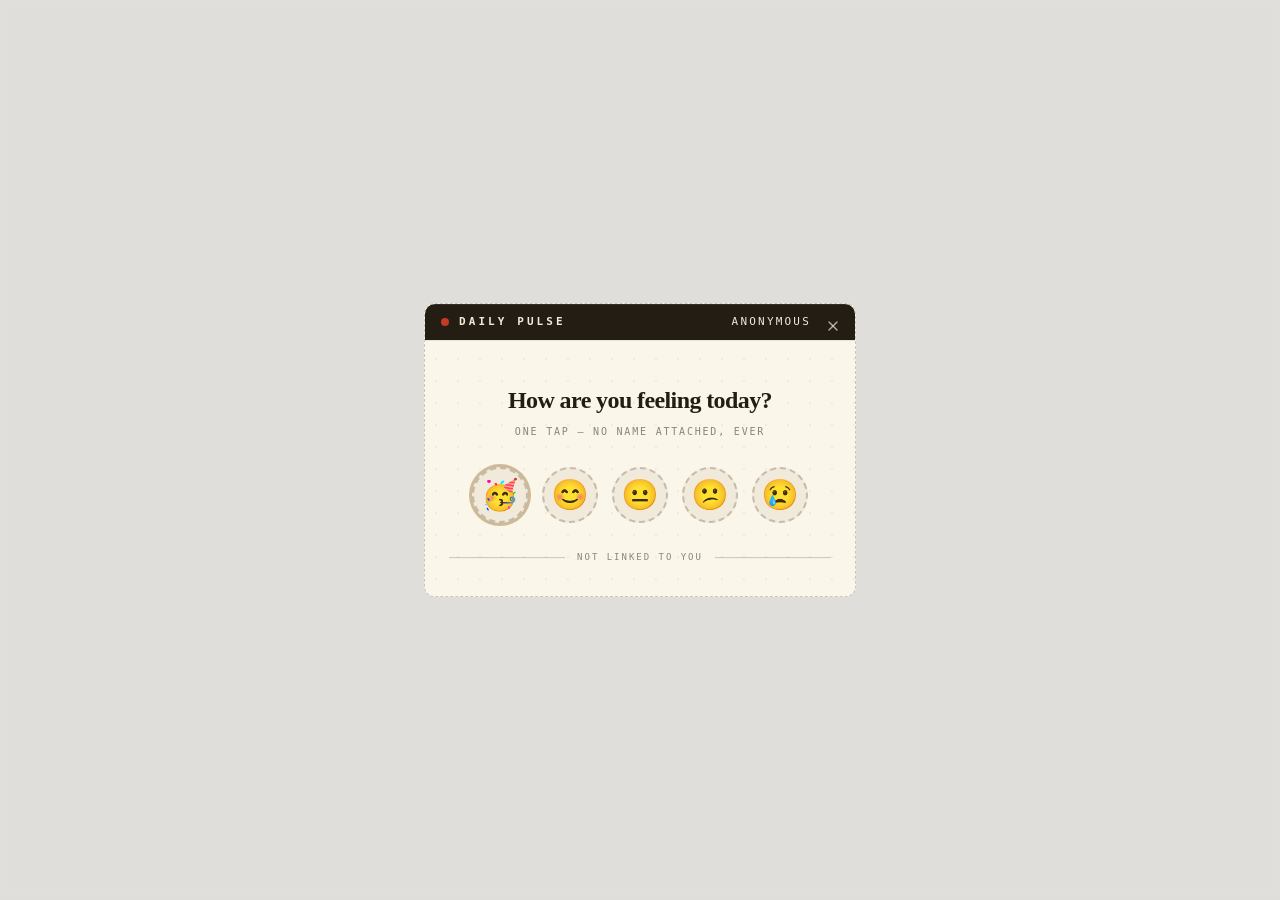
Test: MoodCheckInModal › shows the server error message inline on failure
Click the button named "Sad": x=710, y=495 [682,467,738,523]
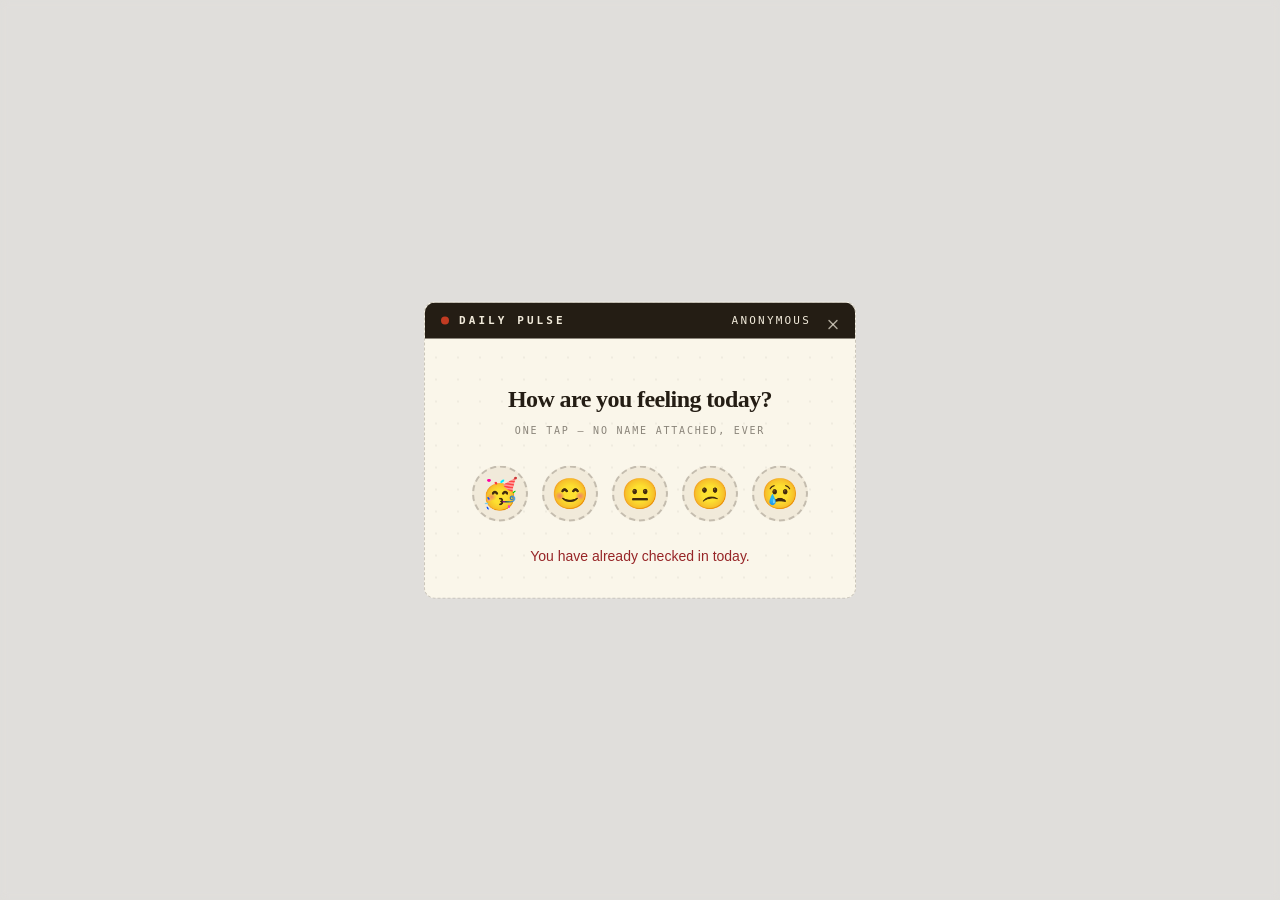
Now the text "You have already checked in today." is shown, box [530,546,750,566]
